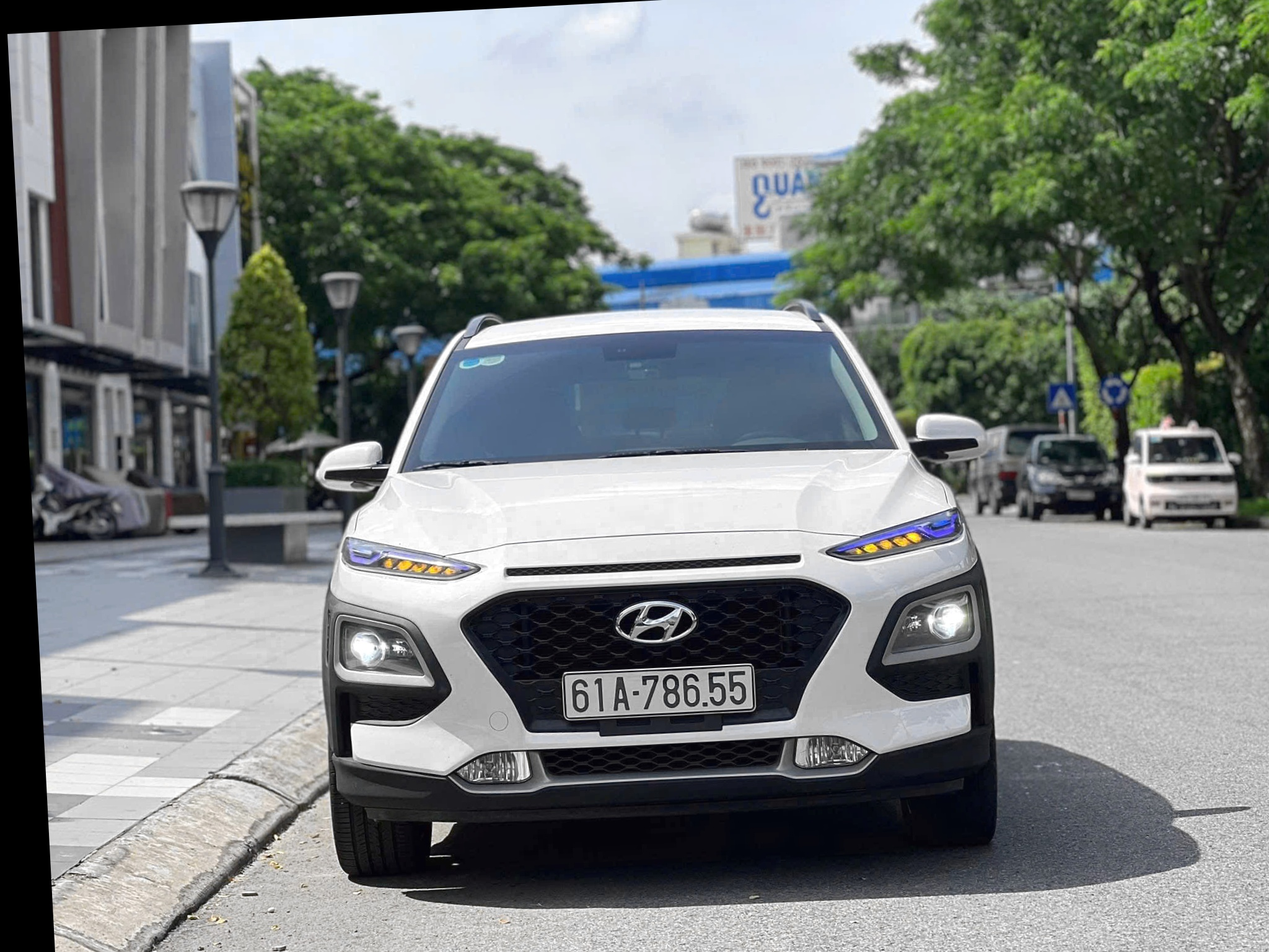Bien-so: (525, 645, 719, 692)
